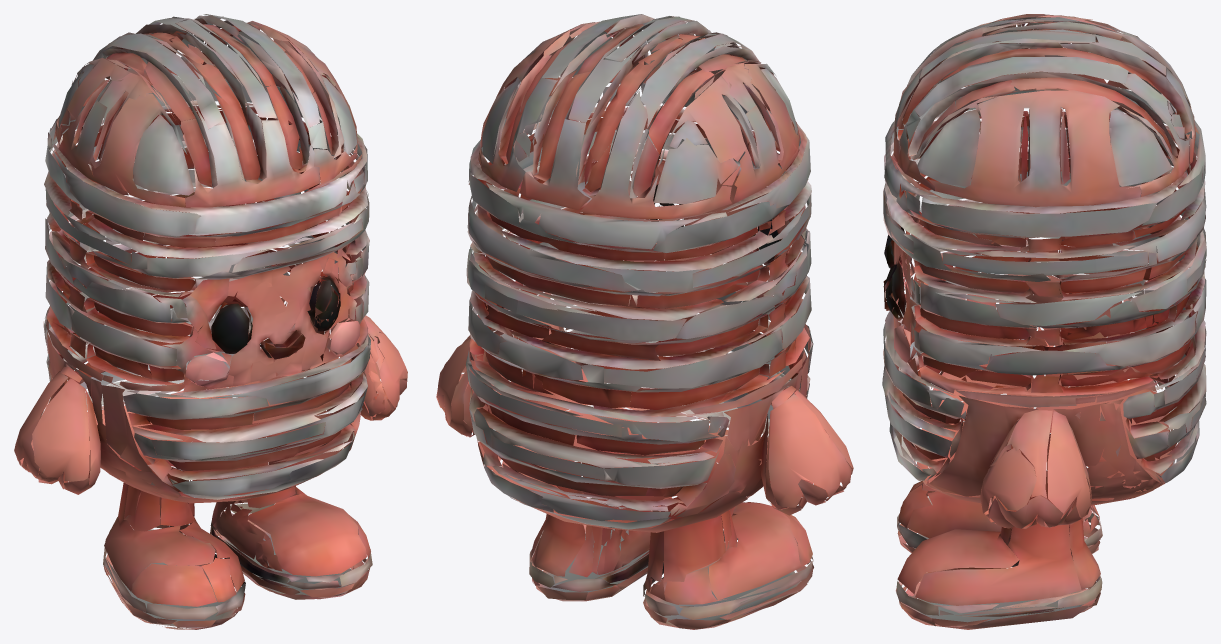
File: emily-microfone-leve.glb
The picture shows the model from 3 angles, left to right: view 1: azimuth 30°, elevation 25°; view 2: azimuth 150°, elevation 25°; view 3: azimuth 270°, elevation 25°; orthographic projection. The views are drawn at different scales.
Parts seen in each view (by area): view 1: Mesh_0; view 2: Mesh_0; view 3: Mesh_0.
Part boxes in pixels (x1=…): Mesh_0: x1=14, y1=14, x2=407, y2=629; Mesh_0: x1=436, y1=14, x2=853, y2=629; Mesh_0: x1=882, y1=14, x2=1206, y2=629.
Bounding box in the file's own units: 0.7884 × 1.06 × 0.5727.
1 material, 1 textured.
